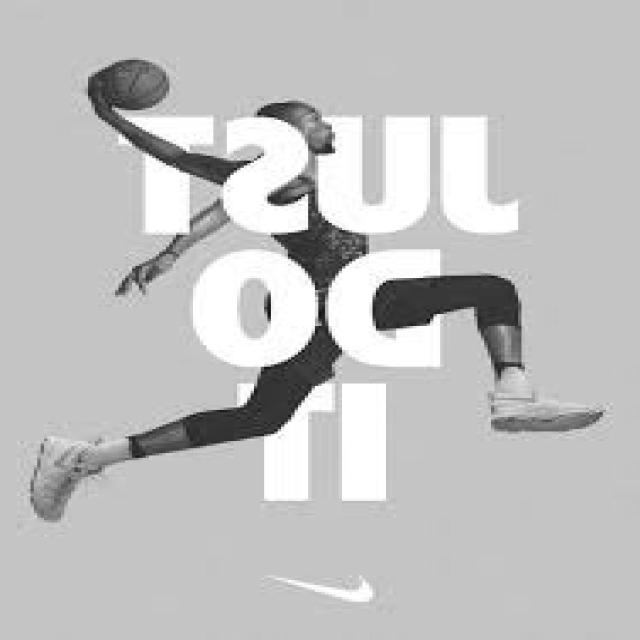nike: (246, 554, 398, 612)
